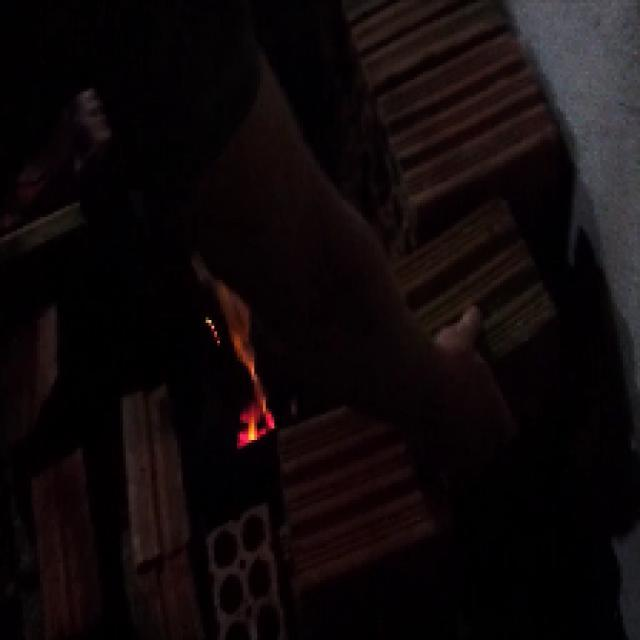Fire: (198, 292, 280, 451)
